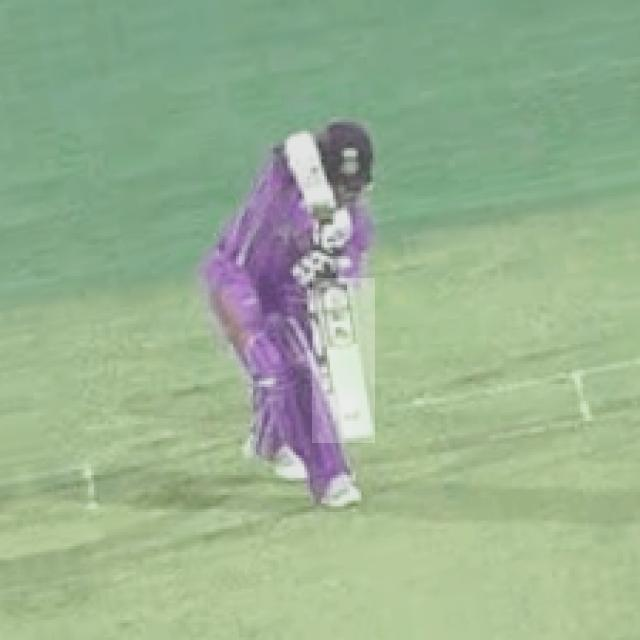bat: (306, 268, 375, 447)
toe: (333, 428, 391, 446)
